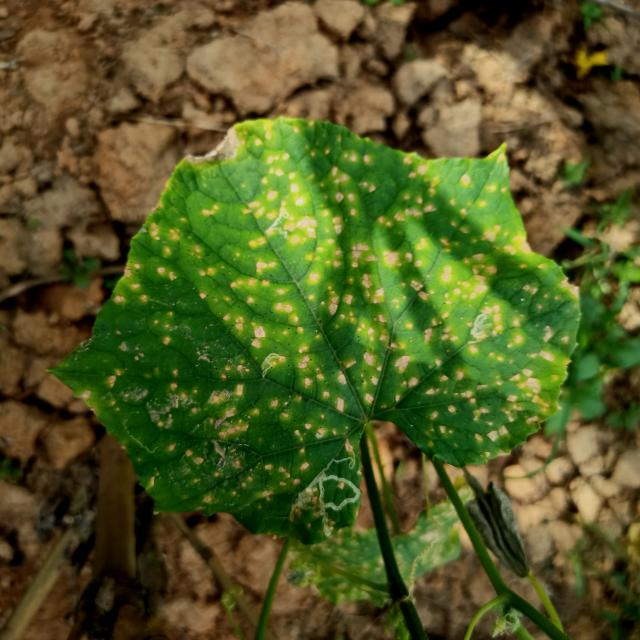disease_cucumber: (75, 122, 561, 494)
